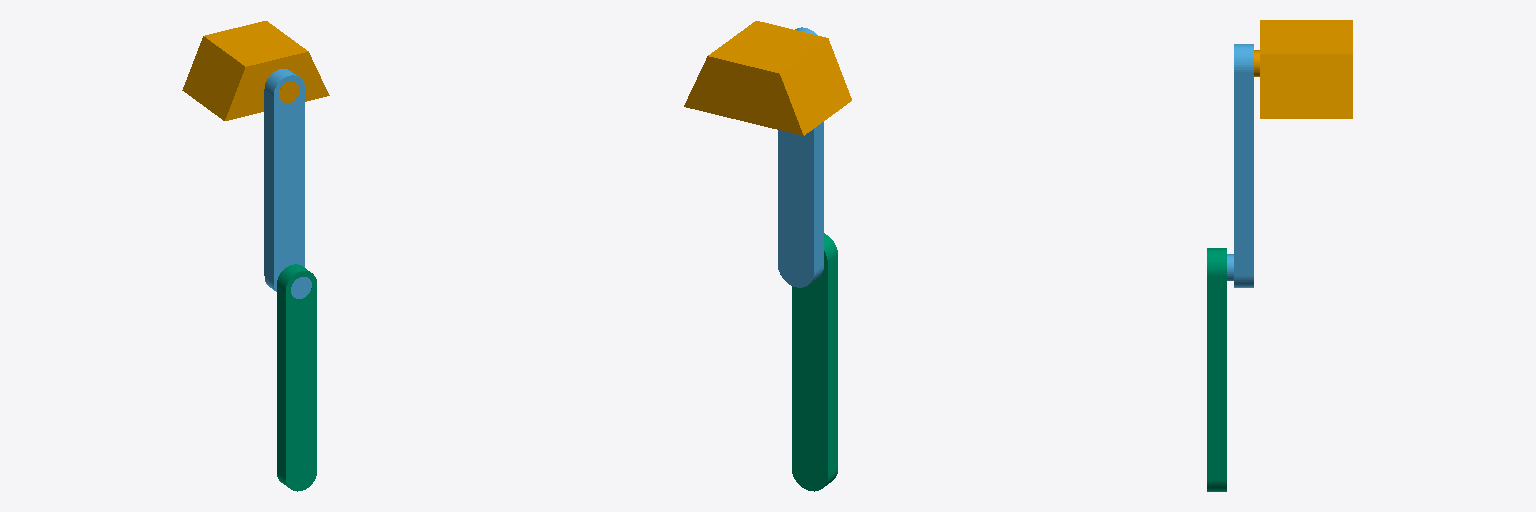
The robot description file, URDF, robot "double":
<?xml version='1.0' encoding='utf-8'?>
<robot name="double">
    <link name="base">
        <inertial>
            <origin xyz="-5.0882903644930016e-14 0.033905297119097316 0.020682775993718396" rpy="0.0 0.0 0.0" />
            <mass value="0.2737801766240988" />
            <inertia ixx="0.00016679533675185336" iyy="0.0001958750687430902" izz="0.00027398927678538214" ixy="-6.117292614119047e-16" iyz="6.944905548926094e-07" ixz="3.228062278523375e-17" />
        </inertial>
        <visual name="base_visual">
            <origin xyz="0.0 0.0 0.0" rpy="0.0 0.0 0.0" />
            <geometry>
                <mesh filename="meshes/base.stl" scale="0.001 0.001 0.001" />
            </geometry>
        </visual>
        <collision name="base_collision">
            <origin xyz="0.0 0.0 0.0" rpy="0.0 0.0 0.0" />
            <geometry>
                <mesh filename="meshes/base.stl" scale="0.001 0.001 0.001" />
            </geometry>
        </collision>
    </link>
    <link name="link1">
        <inertial>
            <origin xyz="-2.2190295416903779e-10 -0.0955400368710832 -0.006259995602085407" rpy="0.0 -0.0 0.0" />
            <mass value="0.09399409199209499" />
            <inertia ixx="0.00029467377914367196" iyy="1.0510242045380947e-05" izz="0.0002976746822149684" ixy="-2.131063201558736e-14" iyz="8.678538554007516e-06" ixz="6.630251666293837e-17" />
        </inertial>
        <visual name="link1_visual">
            <origin xyz="0.0 -0.023 -0.02" rpy="-1.5707963267948966 -0.0 0.0" />
            <geometry>
                <mesh filename="meshes/link1.stl" scale="0.001 0.001 0.001" />
            </geometry>
        </visual>
        <collision name="link1_collision">
            <origin xyz="0.0 -0.023 -0.02" rpy="-1.5707963267948966 -0.0 0.0" />
            <geometry>
                <mesh filename="meshes/link1.stl" scale="0.001 0.001 0.001" />
            </geometry>
        </collision>
    </link>
    <link name="link2">
        <inertial>
            <origin xyz="-2.2185957555771233e-10 -0.08986164433626702 -0.007499999999999995" rpy="0.0 -0.0 0.0" />
            <mass value="0.08733391541761781" />
            <inertia ixx="0.0002526481818618852" iyy="8.226579043583588e-06" izz="0.0002575997390773079" ixy="-2.100693474766756e-14" iyz="0.0" ixz="1.5063505224990281e-21" />
        </inertial>
        <visual name="link2_visual">
            <origin xyz="0.0 0.147 -0.04" rpy="-1.5707963267948966 -0.0 0.0" />
            <geometry>
                <mesh filename="meshes/link2.stl" scale="0.001 0.001 0.001" />
            </geometry>
        </visual>
        <collision name="link2_collision">
            <origin xyz="0.0 0.147 -0.04" rpy="-1.5707963267948966 -0.0 0.0" />
            <geometry>
                <mesh filename="meshes/link2.stl" scale="0.001 0.001 0.001" />
            </geometry>
        </collision>
    </link>
    <joint name="base_Revolute-1" type="continuous">
        <origin xyz="0.0 -0.02 0.023" rpy="1.5707963267948966 -0.0 0.0" />
        <parent link="base" />
        <child link="link1" />
        <axis xyz="0.0 0.0 1.0" />
    </joint>
    <joint name="link1_Revolute-2" type="continuous">
        <origin xyz="0.0 -0.17 0.02" rpy="0.0 -0.0 0.0" />
        <parent link="link1" />
        <child link="link2" />
        <axis xyz="0.0 0.0 1.0" />
    </joint>
</robot>

--- Render facts (derived) ---
The picture shows the robot from 3 angles, left to right: view 1: azimuth 30°, elevation 25°; view 2: azimuth 150°, elevation 25°; view 3: azimuth 270°, elevation 25°; orthographic projection.
Model double with 3 links and 2 joints (2 continuous), rooted at base, posed all joints at 0.
Visible links, largest first — view 1: base, link2, link1; view 2: base, link2, link1; view 3: base, link1, link2.
Link boxes in pixels (x1=…): base: x1=182, y1=21, x2=329, y2=120; link2: x1=277, y1=264, x2=316, y2=491; link1: x1=264, y1=69, x2=311, y2=298; base: x1=684, y1=21, x2=851, y2=135; link2: x1=792, y1=233, x2=837, y2=491; link1: x1=778, y1=27, x2=823, y2=287; base: x1=1254, y1=20, x2=1352, y2=118; link1: x1=1227, y1=44, x2=1253, y2=287; link2: x1=1207, y1=248, x2=1226, y2=491.
Size in the robot's own frame: 0.1 by 0.11 by 0.377 metres.
3 mesh visuals loaded from 3 distinct referenced files (3 binary STL).
